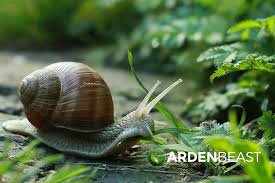snail: (10, 57, 163, 154)
